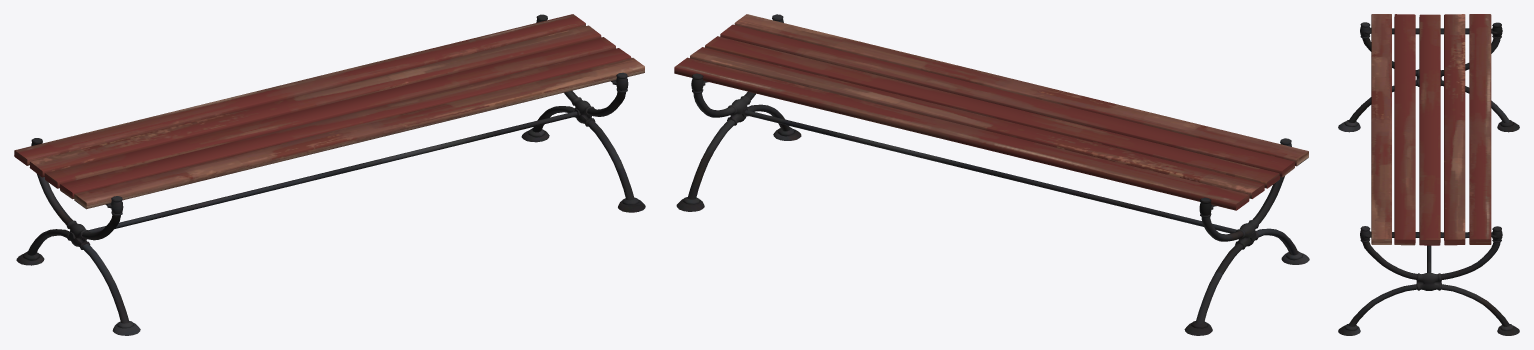
The model's file is ST_UFurn_BenchWood.obj.
The picture shows the model from 3 angles, left to right: view 1: azimuth 30°, elevation 25°; view 2: azimuth 150°, elevation 25°; view 3: azimuth 270°, elevation 25°; orthographic projection. The views are drawn at different scales.
Visible parts, largest first — view 1: ST_UFurn_BenchWood; view 2: ST_UFurn_BenchWood; view 3: ST_UFurn_BenchWood.
Boxes of the visible parts, x1,y1,x2,y2 form: ST_UFurn_BenchWood: (14, 14, 645, 335); ST_UFurn_BenchWood: (674, 14, 1309, 335); ST_UFurn_BenchWood: (1338, 14, 1519, 335).
Bounding box in the file's own units: 207 × 44.43 × 70.72.
Materials: 1 (1 with a texture image).
